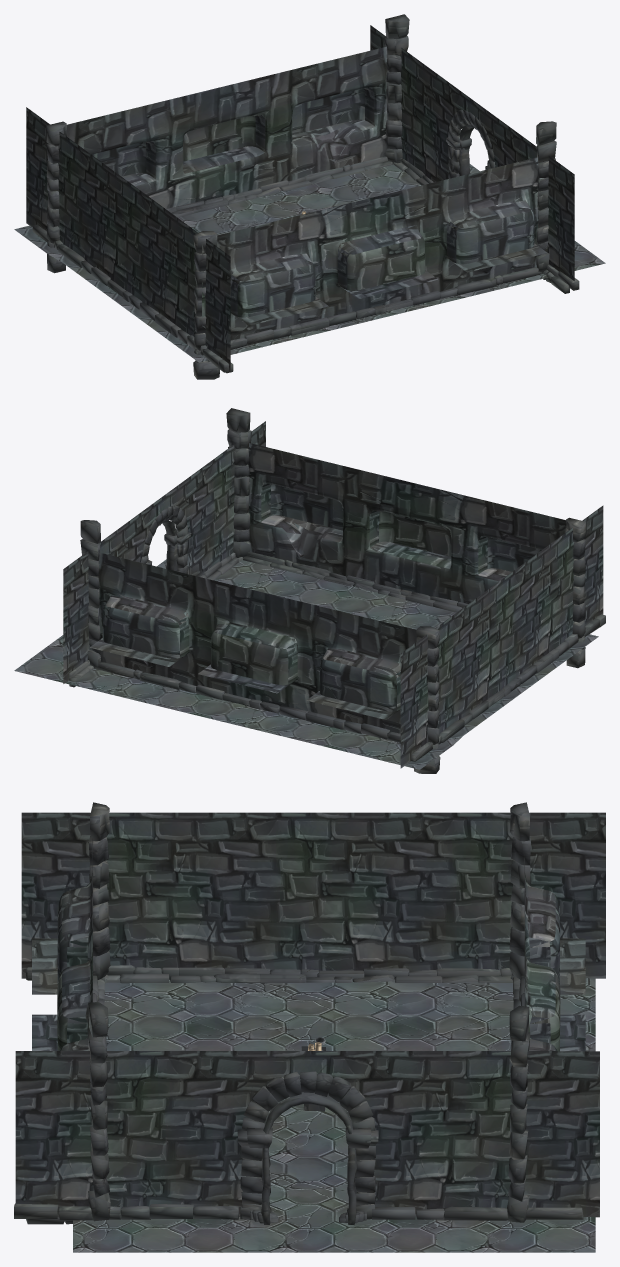
The model's file is room3.obj.
The picture shows the model from 3 angles, top to bottom: view 1: azimuth 30°, elevation 25°; view 2: azimuth 150°, elevation 25°; view 3: azimuth 270°, elevation 25°; orthographic projection. The views are drawn at different scales.
Visible parts, largest first — view 1: Plane1610, Box608, Group65595, Box728; view 2: Plane1610, Box608, Group65595, Box728; view 3: Plane1610, Box608, Group65595, Box728.
Boxes of the visible parts, x1,y1,x2,y2 form: Plane1610: (26, 25, 574, 372); Box608: (14, 164, 605, 362); Group65595: (46, 14, 556, 379); Box728: (32, 156, 579, 373); Plane1610: (63, 421, 603, 768); Box608: (14, 559, 598, 769); Group65595: (80, 408, 586, 773); Box728: (69, 551, 605, 761); Plane1610: (15, 812, 605, 1217); Box608: (73, 978, 595, 1252); Group65595: (87, 802, 530, 1224); Box728: (14, 965, 583, 1224).
Size of the model in its own units: 1.31 by 0.527 by 1.15.
